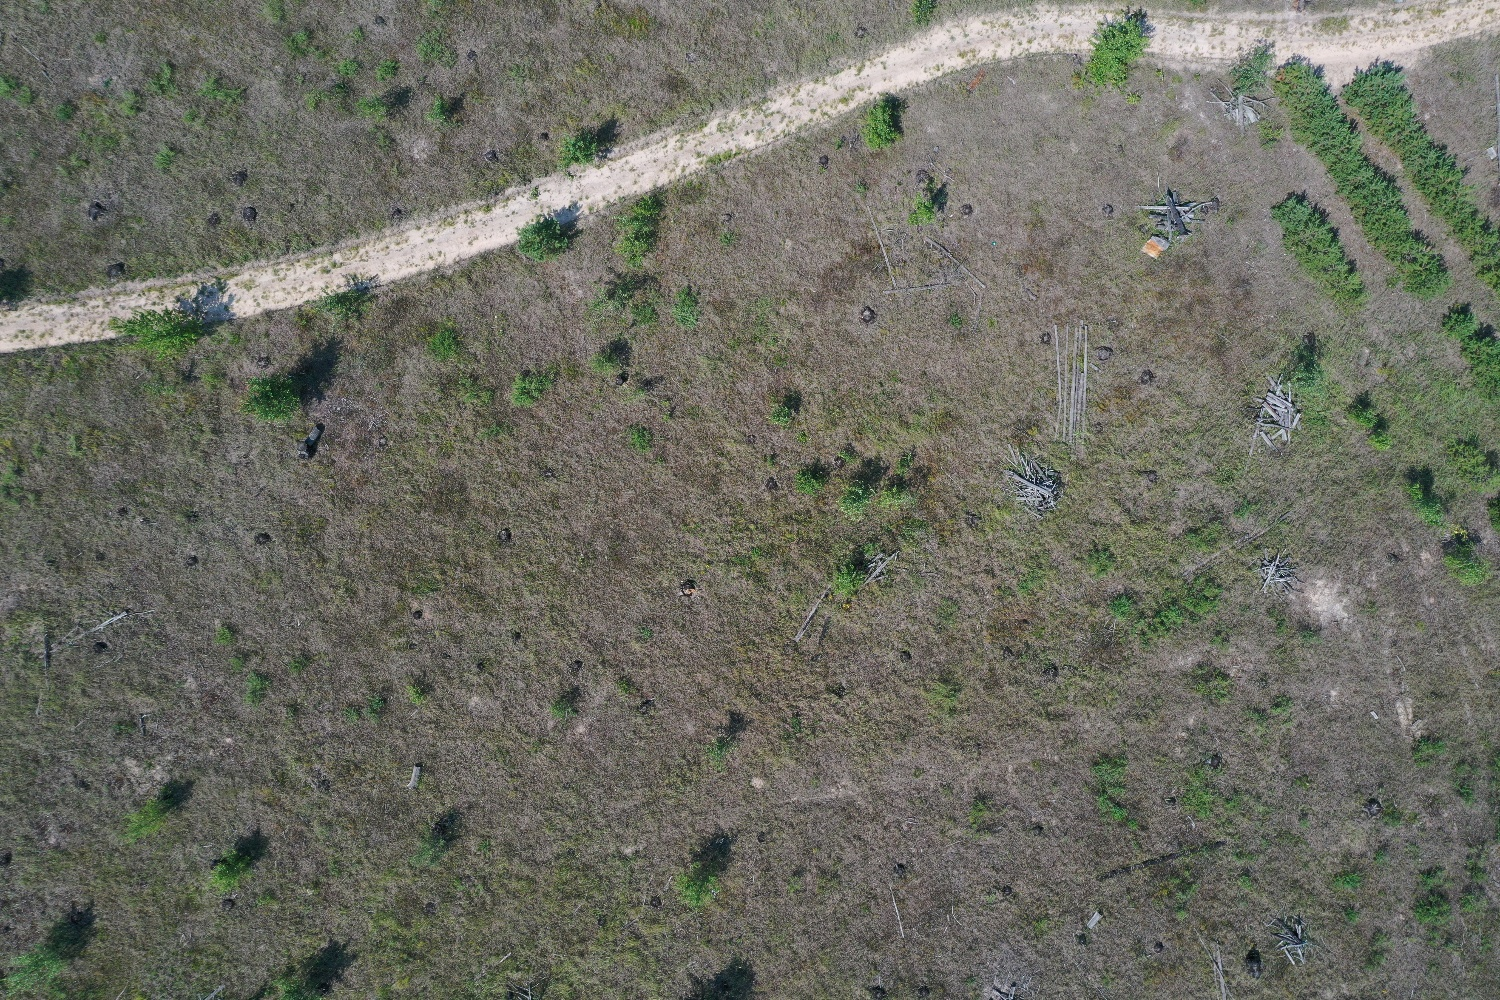branches: (1003, 442, 1065, 519), (1244, 373, 1302, 452), (1138, 189, 1221, 239), (1257, 548, 1300, 599), (1269, 914, 1308, 965), (1222, 94, 1276, 122)
